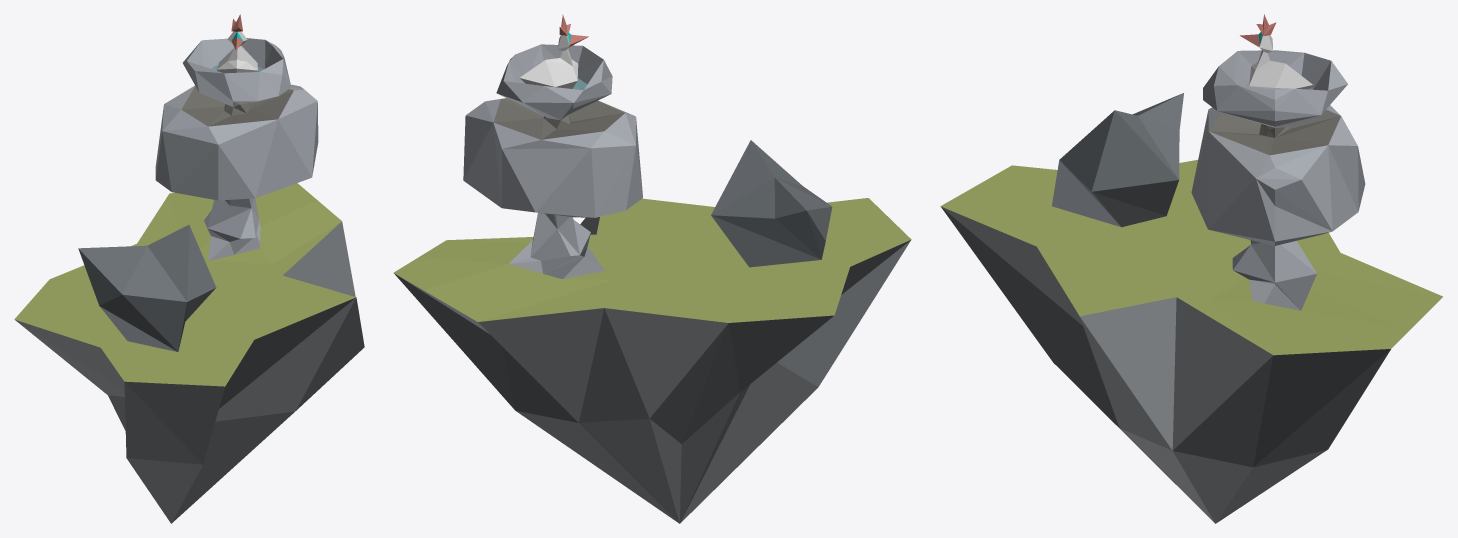
The model's file is islandWithAssets03.fbx.
The picture shows the model from 3 angles, left to right: view 1: azimuth 30°, elevation 25°; view 2: azimuth 150°, elevation 25°; view 3: azimuth 270°, elevation 25°; orthographic projection. The views are drawn at different scales.
Visible parts, largest first — view 1: pCube4; view 2: pCube4; view 3: pCube4.
Boxes of the visible parts, x1,y1,x2,y2 form: pCube4: (14, 14, 364, 523); pCube4: (393, 14, 911, 523); pCube4: (940, 14, 1442, 523).
Size of the model in its own units: 0.0491 by 0.064 by 0.0519.
